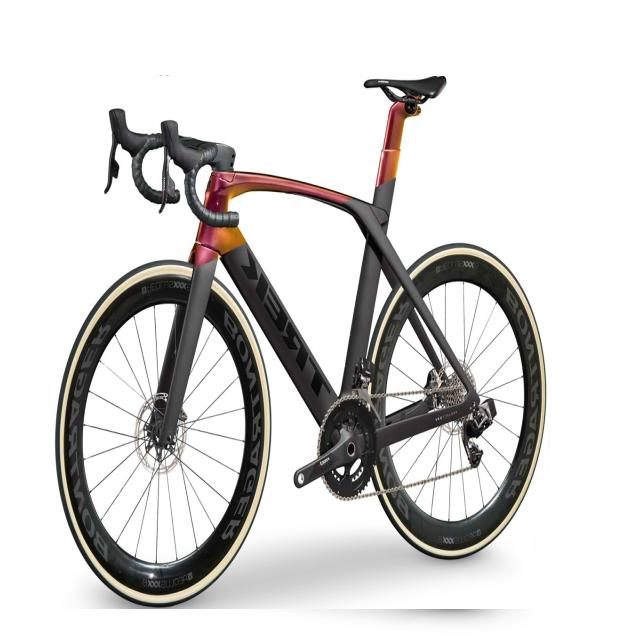bicycle: (55, 76, 548, 609)
